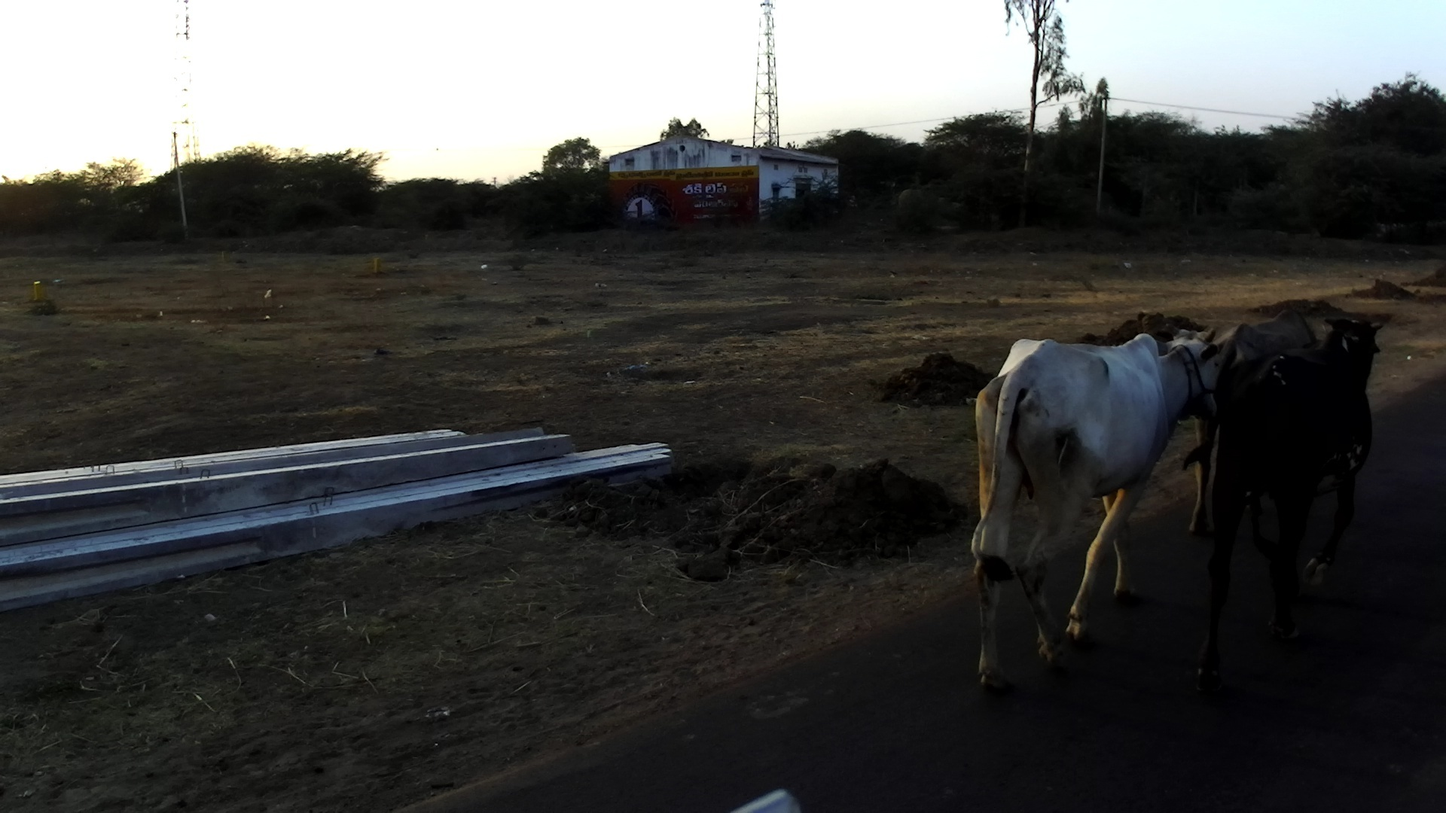animal: (963, 324, 1223, 699), (1195, 312, 1389, 688), (1179, 306, 1321, 538)
